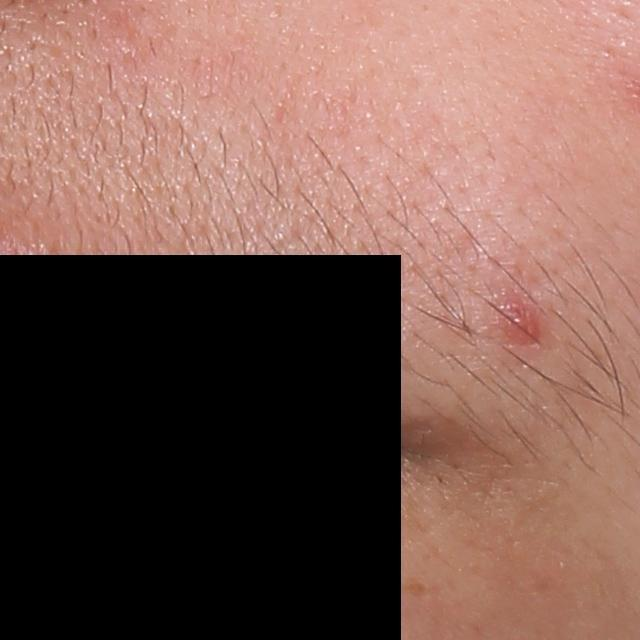papule: (503, 303, 541, 350)
